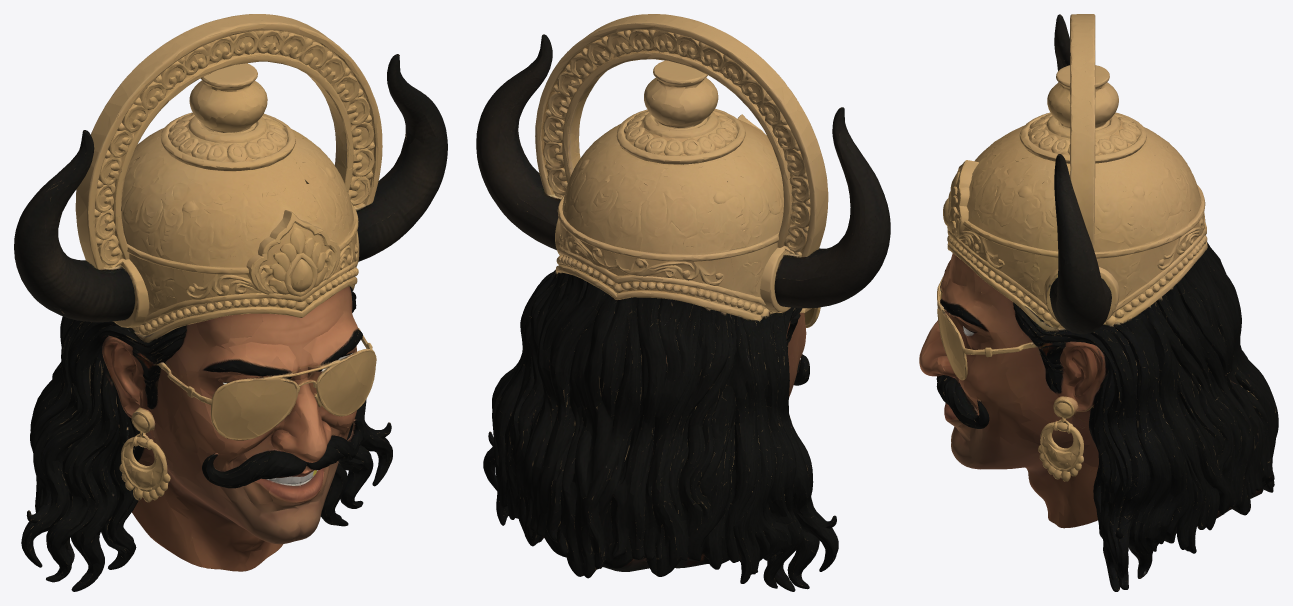
The model's file is head-closer.glb.
The picture shows the model from 3 angles, left to right: view 1: azimuth 30°, elevation 25°; view 2: azimuth 150°, elevation 25°; view 3: azimuth 270°, elevation 25°; orthographic projection. The views are drawn at different scales.
Parts seen in each view (by area): view 1: mesh_node; view 2: mesh_node; view 3: mesh_node.
Part boxes in pixels (bbox=[...]): mesh_node: bbox=[14, 14, 447, 591]; mesh_node: bbox=[476, 14, 890, 591]; mesh_node: bbox=[919, 14, 1278, 591].
Bounding box in the file's own units: 1.54 × 1.9 × 1.23.
Materials: 1 (1 with a texture image).
